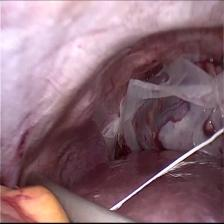Specimen Bag: (100, 60, 224, 167)
